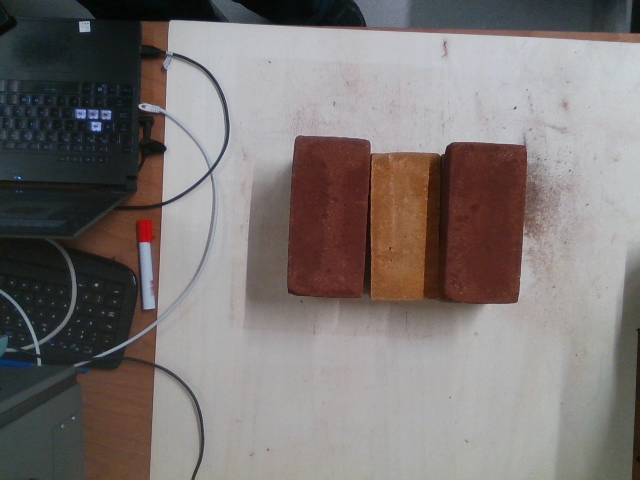brick: (448, 142, 527, 302), (288, 137, 367, 297), (370, 155, 441, 297)
